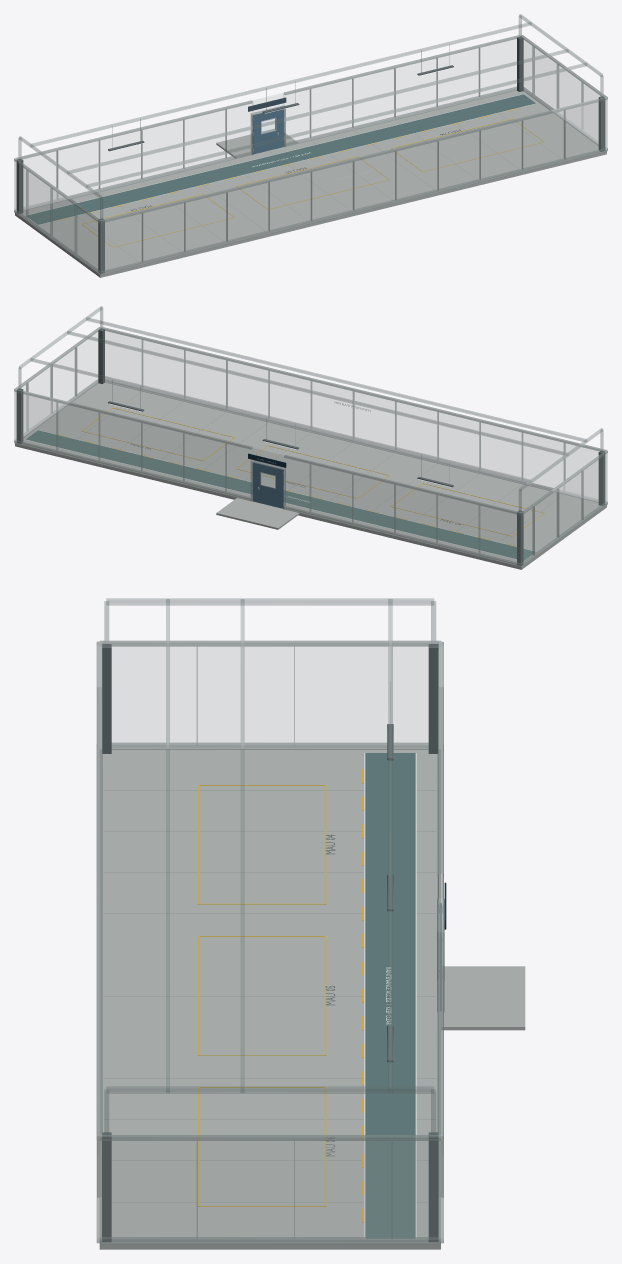
The model's file is fab1-room-mau-south.glb.
3 views of the same model, one above another, from view 1: azimuth 30°, elevation 25°; view 2: azimuth 150°, elevation 25°; view 3: azimuth 270°, elevation 25° (orthographic). The views are drawn at different scales.
Visible parts, largest first — view 1: FAB1_Room_mau_south_Slab, FAB1_Room_mau_south_OuterWall, FAB1_Room_mau_south_CorridorWall_1.1, FAB1_Room_mau_south_CorridorWall_-18, FAB1_Room_mau_south_ServiceAisle, FAB1_Room_mau_south_SideWall_-18, FAB1_Room_mau_south_SideWall_18, FAB1_Room_mau_south_WallBand_-12_0_0.09, FAB1_Room_mau_south_RoofBeam_-3.05, FAB1_Room_mau_south_RoofBeam_-7.6, FAB1_Room_mau_south_RoofBeam_-9.9, FAB1_Room_mau_south_WallBand_-12_0_3.58 (+18 smaller); view 2: FAB1_Room_mau_south_Slab, FAB1_Room_mau_south_OuterWall, FAB1_Room_mau_south_CorridorWall_-18, FAB1_Room_mau_south_CorridorWall_1.1, FAB1_Room_mau_south_ServiceAisle, FAB1_Room_mau_south_SideWall_-18, FAB1_Room_mau_south_SideWall_18, FAB1_Room_mau_south_RoofBeam_-7.6, FAB1_Room_mau_south_RoofBeam_-3.05, FAB1_Room_mau_south_RoofBeam_-9.9, FAB1_Room_mau_south_WallBand_-12_0_3.58, FAB1_Room_mau_south_WallBand_-12_0_0.09 (+17 smaller); view 3: FAB1_Room_mau_south_Slab, FAB1_Room_mau_south_SideWall_18, FAB1_Room_mau_south_SideWall_-18, FAB1_Room_mau_south_ServiceAisle, FAB1_Room_mau_south_EntryApron, FAB1_Room_mau_south_WallBand_-12_0_3.58, FAB1_Room_mau_south_SideBand_18_0_0.09, FAB1_Room_mau_south_RoofSideBeam_17.78, FAB1_Room_mau_south_RoofSideBeam_-17.78, FAB1_Room_mau_south_SideBand_-18_0_0.09, FAB1_Room_mau_south_RoofBeam_-3.05, FAB1_Room_mau_south_SideBand_-18_0_3.58 (+11 smaller).
Boxes of the visible parts, x1,y1,x2,y2 form: FAB1_Room_mau_south_Slab: [15, 90, 606, 277]; FAB1_Room_mau_south_OuterWall: [100, 98, 606, 271]; FAB1_Room_mau_south_CorridorWall_1.1: [284, 36, 517, 145]; FAB1_Room_mau_south_CorridorWall_-18: [15, 100, 252, 208]; FAB1_Room_mau_south_ServiceAisle: [27, 94, 535, 224]; FAB1_Room_mau_south_SideWall_-18: [14, 161, 99, 274]; FAB1_Room_mau_south_SideWall_18: [523, 36, 607, 148]; FAB1_Room_mau_south_WallBand_-12_0_0.09: [100, 148, 607, 274]; FAB1_Room_mau_south_RoofBeam_-3.05: [30, 22, 531, 146]; FAB1_Room_mau_south_RoofBeam_-7.6: [67, 49, 568, 173]; FAB1_Room_mau_south_RoofBeam_-9.9: [86, 63, 586, 187]; FAB1_Room_mau_south_WallBand_-12_0_3.58: [100, 97, 607, 223]; FAB1_Room_mau_south_Slab: [15, 382, 606, 569]; FAB1_Room_mau_south_OuterWall: [103, 327, 606, 500]; FAB1_Room_mau_south_CorridorWall_-18: [283, 455, 521, 564]; FAB1_Room_mau_south_CorridorWall_1.1: [15, 390, 252, 498]; FAB1_Room_mau_south_ServiceAisle: [26, 430, 535, 560]; FAB1_Room_mau_south_SideWall_-18: [522, 453, 607, 566]; FAB1_Room_mau_south_SideWall_18: [14, 328, 98, 440]; FAB1_Room_mau_south_RoofBeam_-7.6: [67, 331, 568, 455]; FAB1_Room_mau_south_RoofBeam_-3.05: [30, 358, 531, 482]; FAB1_Room_mau_south_RoofBeam_-9.9: [86, 317, 586, 442]; FAB1_Room_mau_south_WallBand_-12_0_3.58: [101, 327, 606, 452]; FAB1_Room_mau_south_WallBand_-12_0_0.09: [105, 379, 606, 503]; FAB1_Room_mau_south_Slab: [99, 749, 440, 1249]; FAB1_Room_mau_south_SideWall_18: [100, 1135, 440, 1243]; FAB1_Room_mau_south_SideWall_-18: [103, 641, 437, 749]; FAB1_Room_mau_south_ServiceAisle: [365, 753, 415, 1238]; FAB1_Room_mau_south_EntryApron: [441, 966, 525, 1030]; FAB1_Room_mau_south_WallBand_-12_0_3.58: [96, 641, 102, 1139]; FAB1_Room_mau_south_SideBand_18_0_0.09: [99, 1237, 440, 1244]; FAB1_Room_mau_south_RoofSideBeam_17.78: [106, 1086, 433, 1093]; FAB1_Room_mau_south_RoofSideBeam_-17.78: [106, 598, 433, 605]; FAB1_Room_mau_south_SideBand_-18_0_0.09: [111, 742, 428, 749]; FAB1_Room_mau_south_RoofBeam_-3.05: [388, 599, 392, 1092]; FAB1_Room_mau_south_SideBand_-18_0_3.58: [100, 640, 440, 646].
Size of what is drawn, in the model's own units: 36.18 by 5.42 by 13.19.
Materials: 6 (1 with a texture image).
